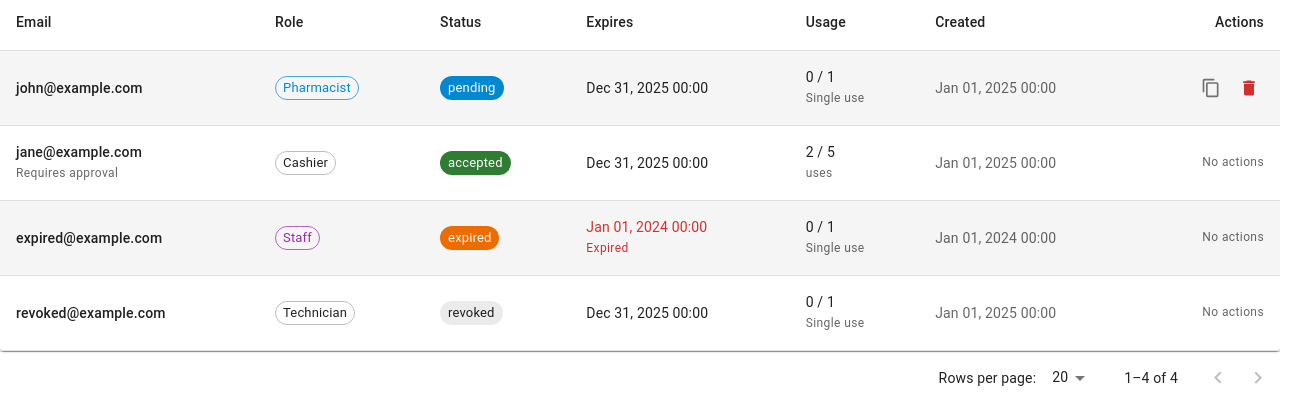
InviteList › Actions › should show copied confirmation after copying
The width and height of the screenshot is (1292, 403).
Click the button named "Copy invite link": (1211, 88) [1196,73,1226,103]
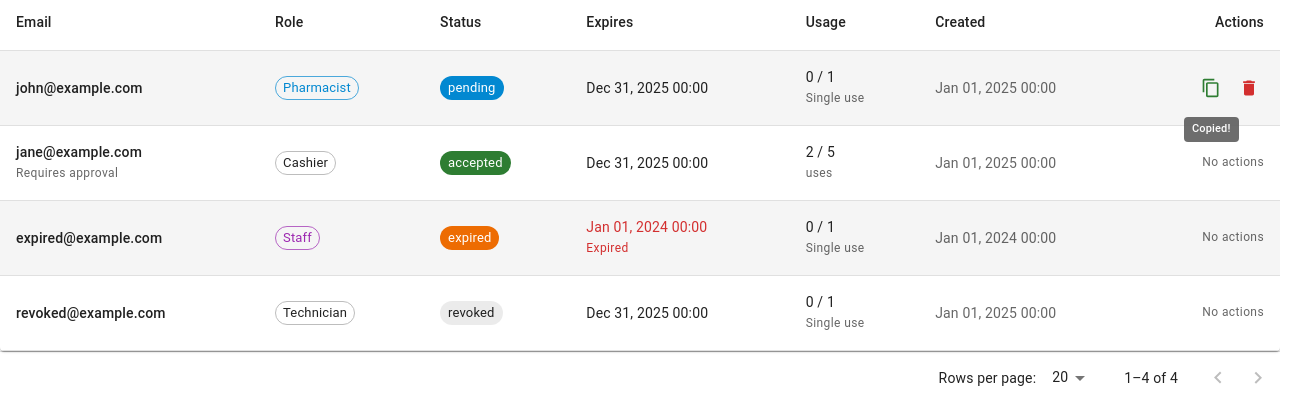
Check: the text "Copied!" is shown, box [1184,117,1239,142]
